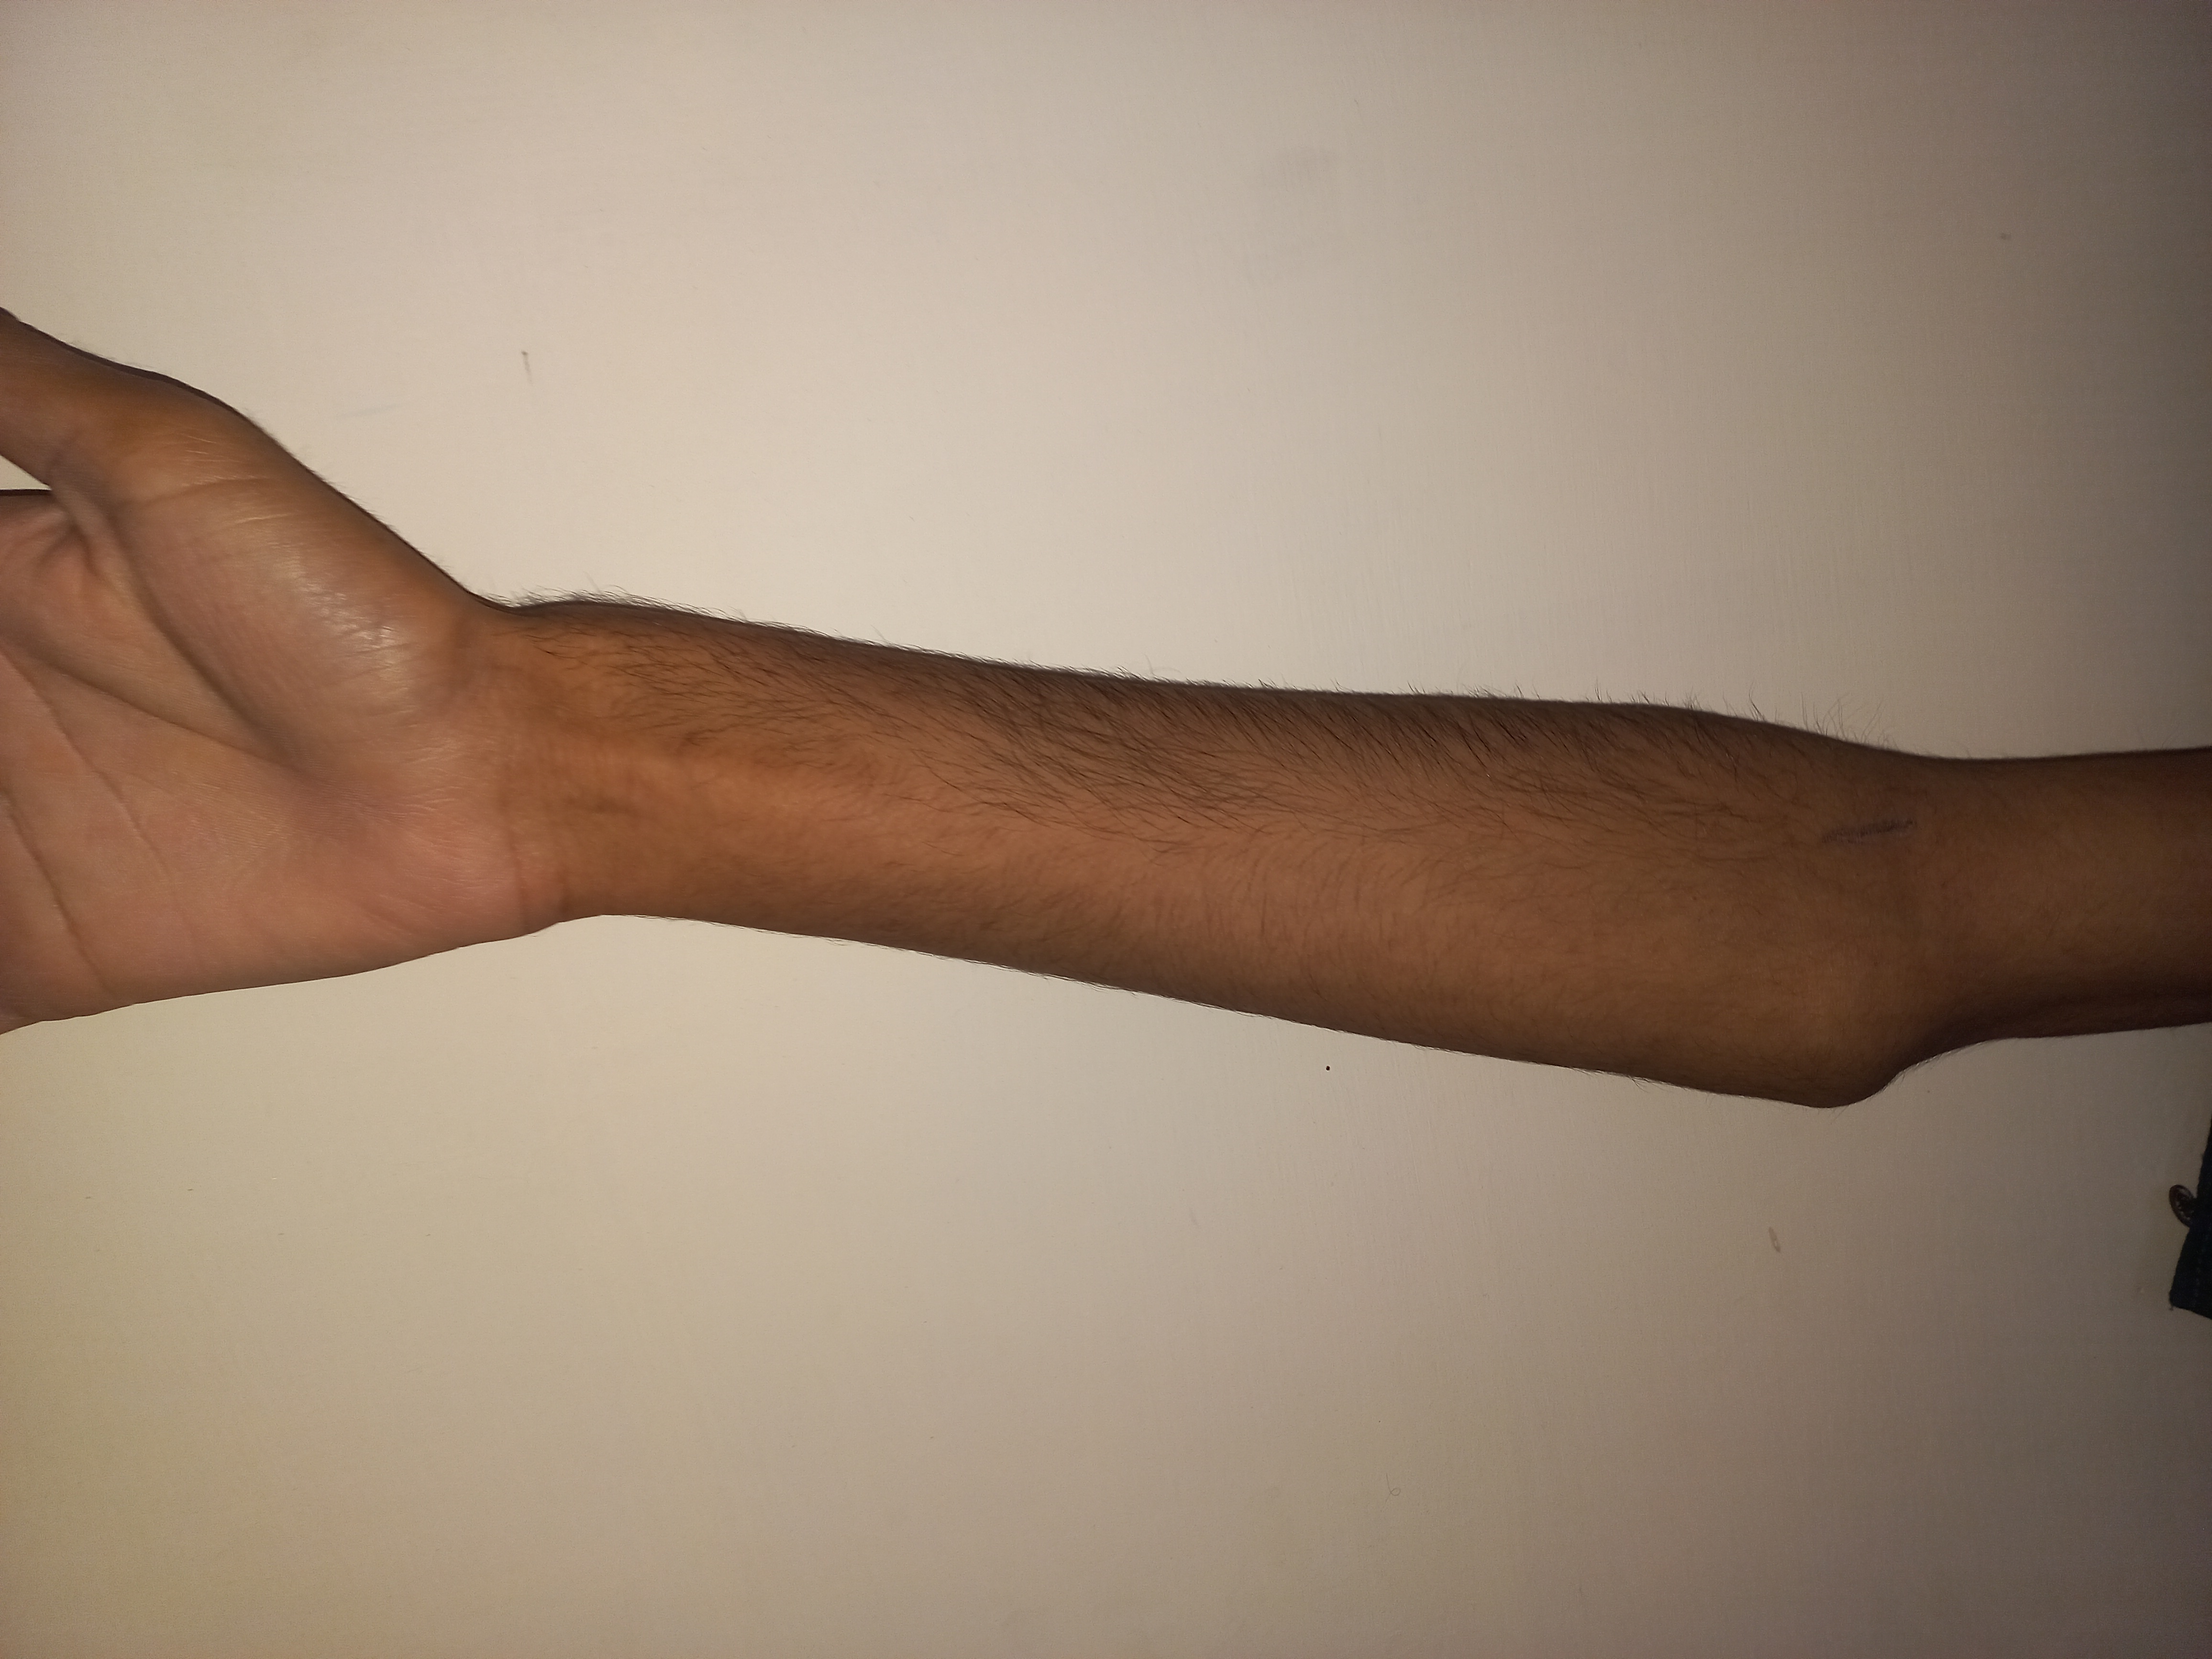vein: (1811, 812, 1958, 854)
